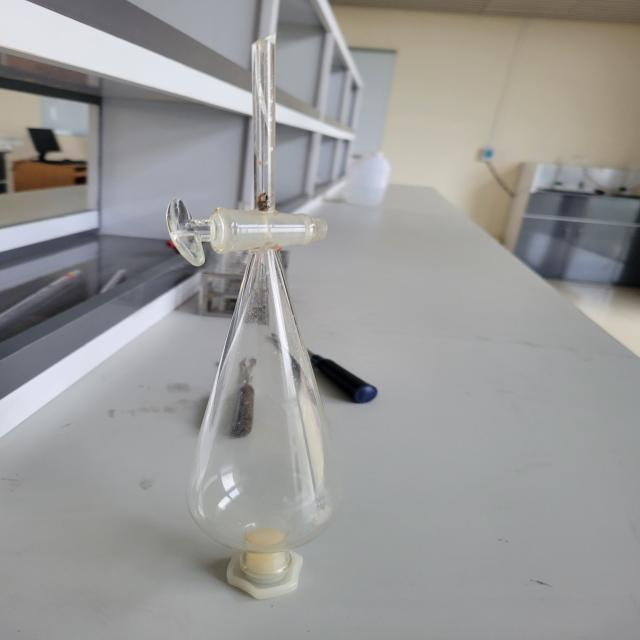Separating_Funnel: (138, 5, 382, 625)
